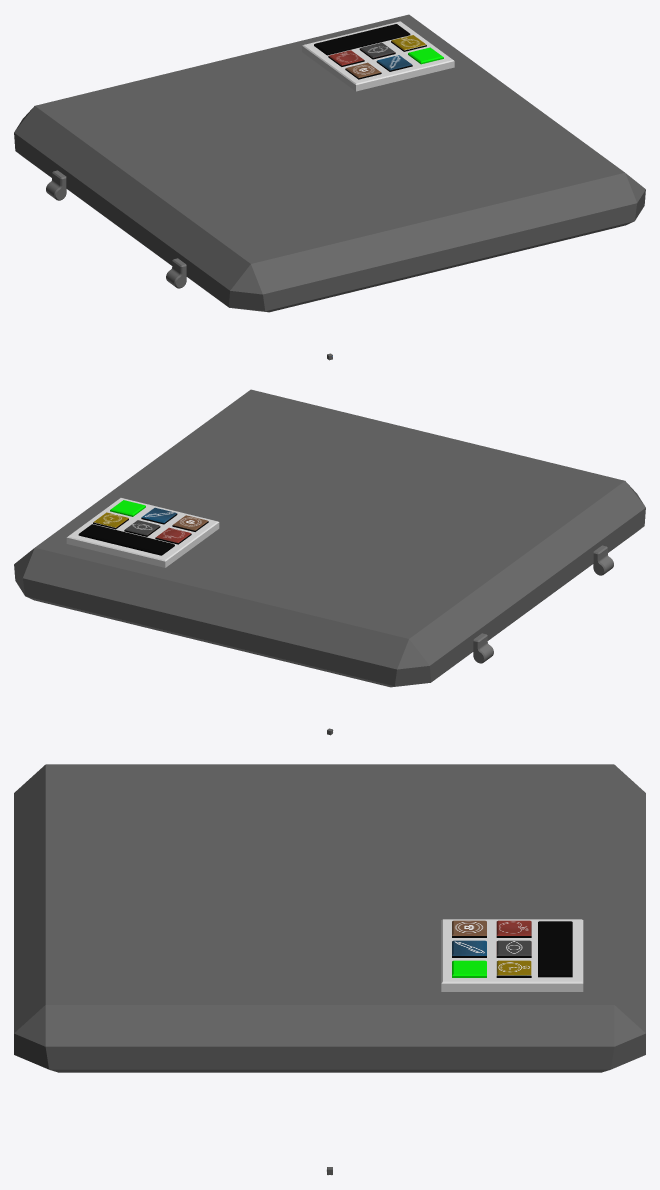
The model's file is keypadSafeV1.fbx.
3 renders of one model, top to bottom at view 1: azimuth 30°, elevation 25°; view 2: azimuth 150°, elevation 25°; view 3: azimuth 270°, elevation 25°, orthographic. The views are drawn at different scales.
Visible parts, largest first — view 1: Safe_Door, Keypad; view 2: Safe_Door, Keypad; view 3: Safe_Door, Keypad.
Part boxes in pixels (left/top/right/bottom): Safe_Door: left=14, top=14, right=645, bottom=312; Keypad: left=302, top=21, right=454, bottom=91; Safe_Door: left=14, top=389, right=645, bottom=687; Keypad: left=66, top=498, right=219, bottom=567; Safe_Door: left=14, top=764, right=645, bottom=1072; Keypad: left=441, top=919, right=583, bottom=991.
Size of the model in its own units: 10288 by 5285 by 10000.
